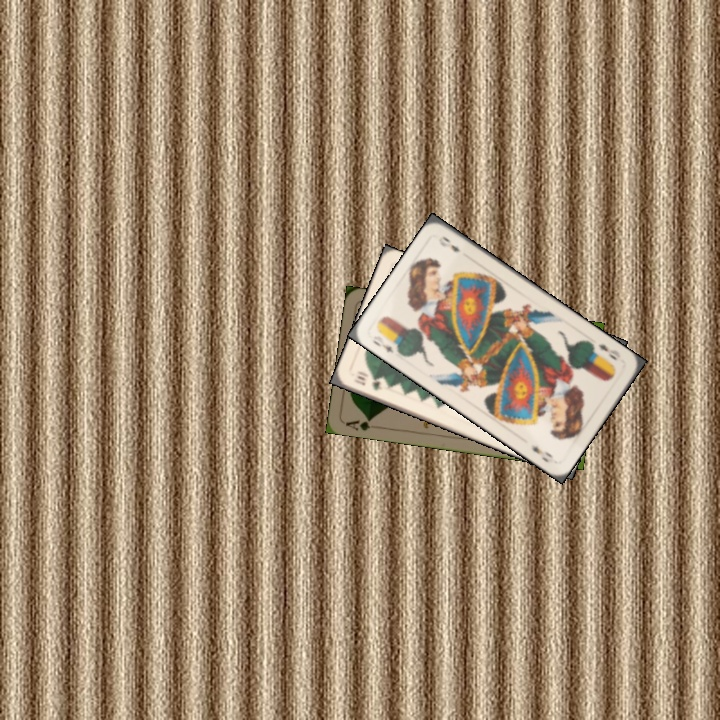EO: (369, 336, 402, 356), (593, 339, 620, 363)
G10: (349, 371, 384, 393)
GA: (341, 414, 375, 433)
